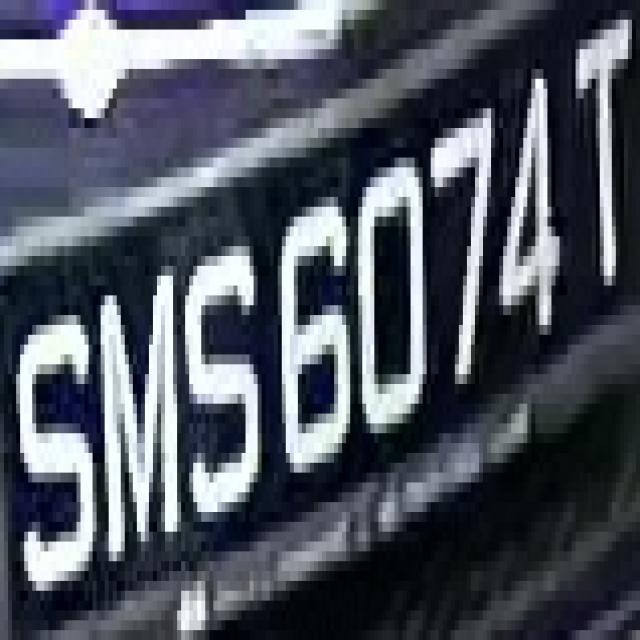0: (346, 138, 431, 472)
4: (487, 39, 568, 384)
6: (270, 177, 362, 502)
7: (419, 89, 503, 414)
M: (89, 246, 189, 561)
S: (185, 216, 266, 552)
T: (559, 39, 640, 296)
